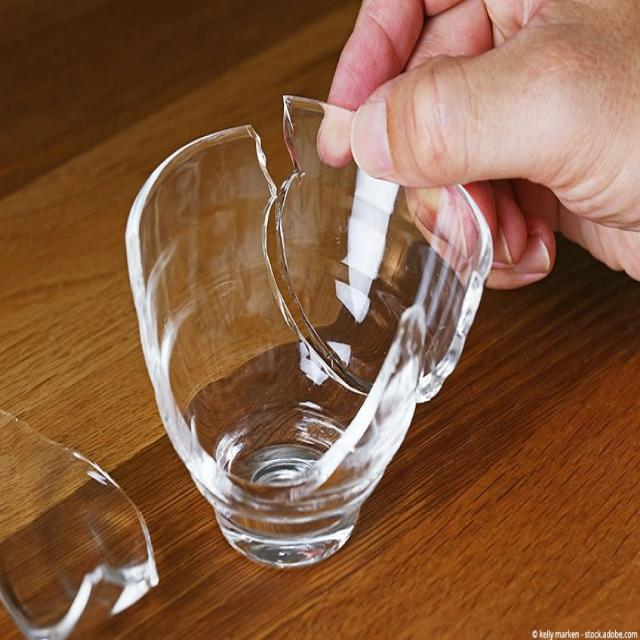Dry Waste: (126, 91, 492, 564), (0, 404, 159, 640)
